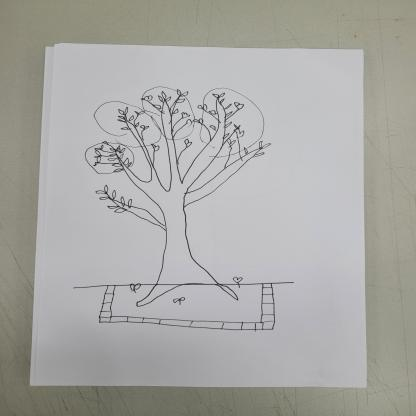branch_sharp: (98, 92, 266, 228)
root_under: (133, 276, 250, 314)
trunk_reflex: (159, 219, 201, 264)
